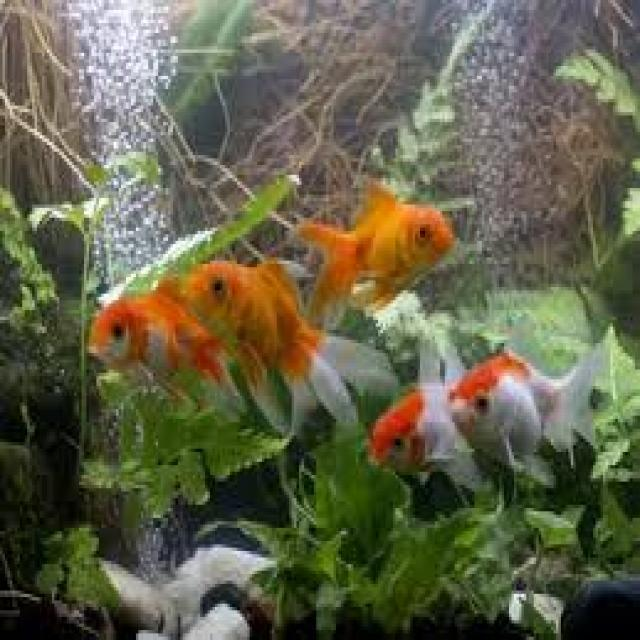goldfish: (448, 346, 610, 482)
